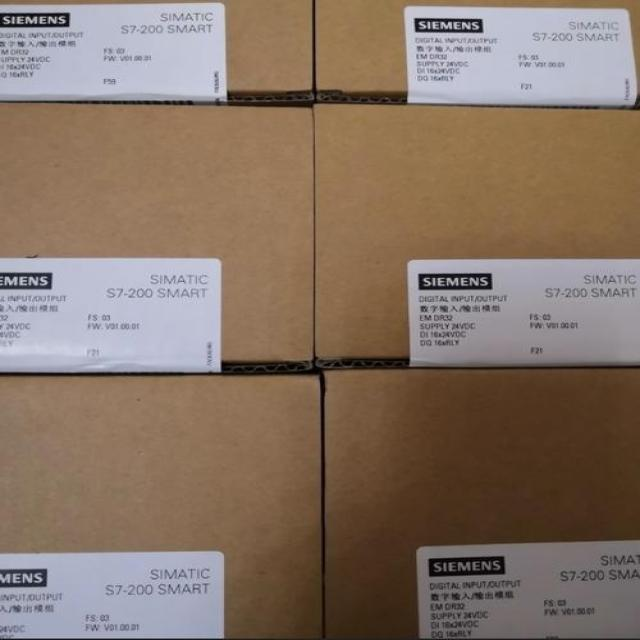box: (314, 103, 639, 369), (0, 372, 323, 639), (324, 367, 639, 639), (0, 103, 311, 377), (315, 1, 639, 107), (0, 1, 315, 109)
